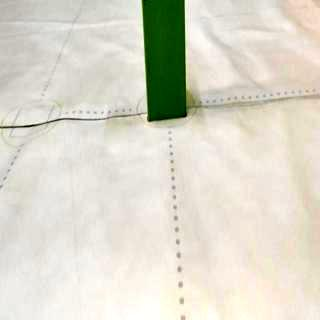greenbox: (140, 1, 192, 118)
